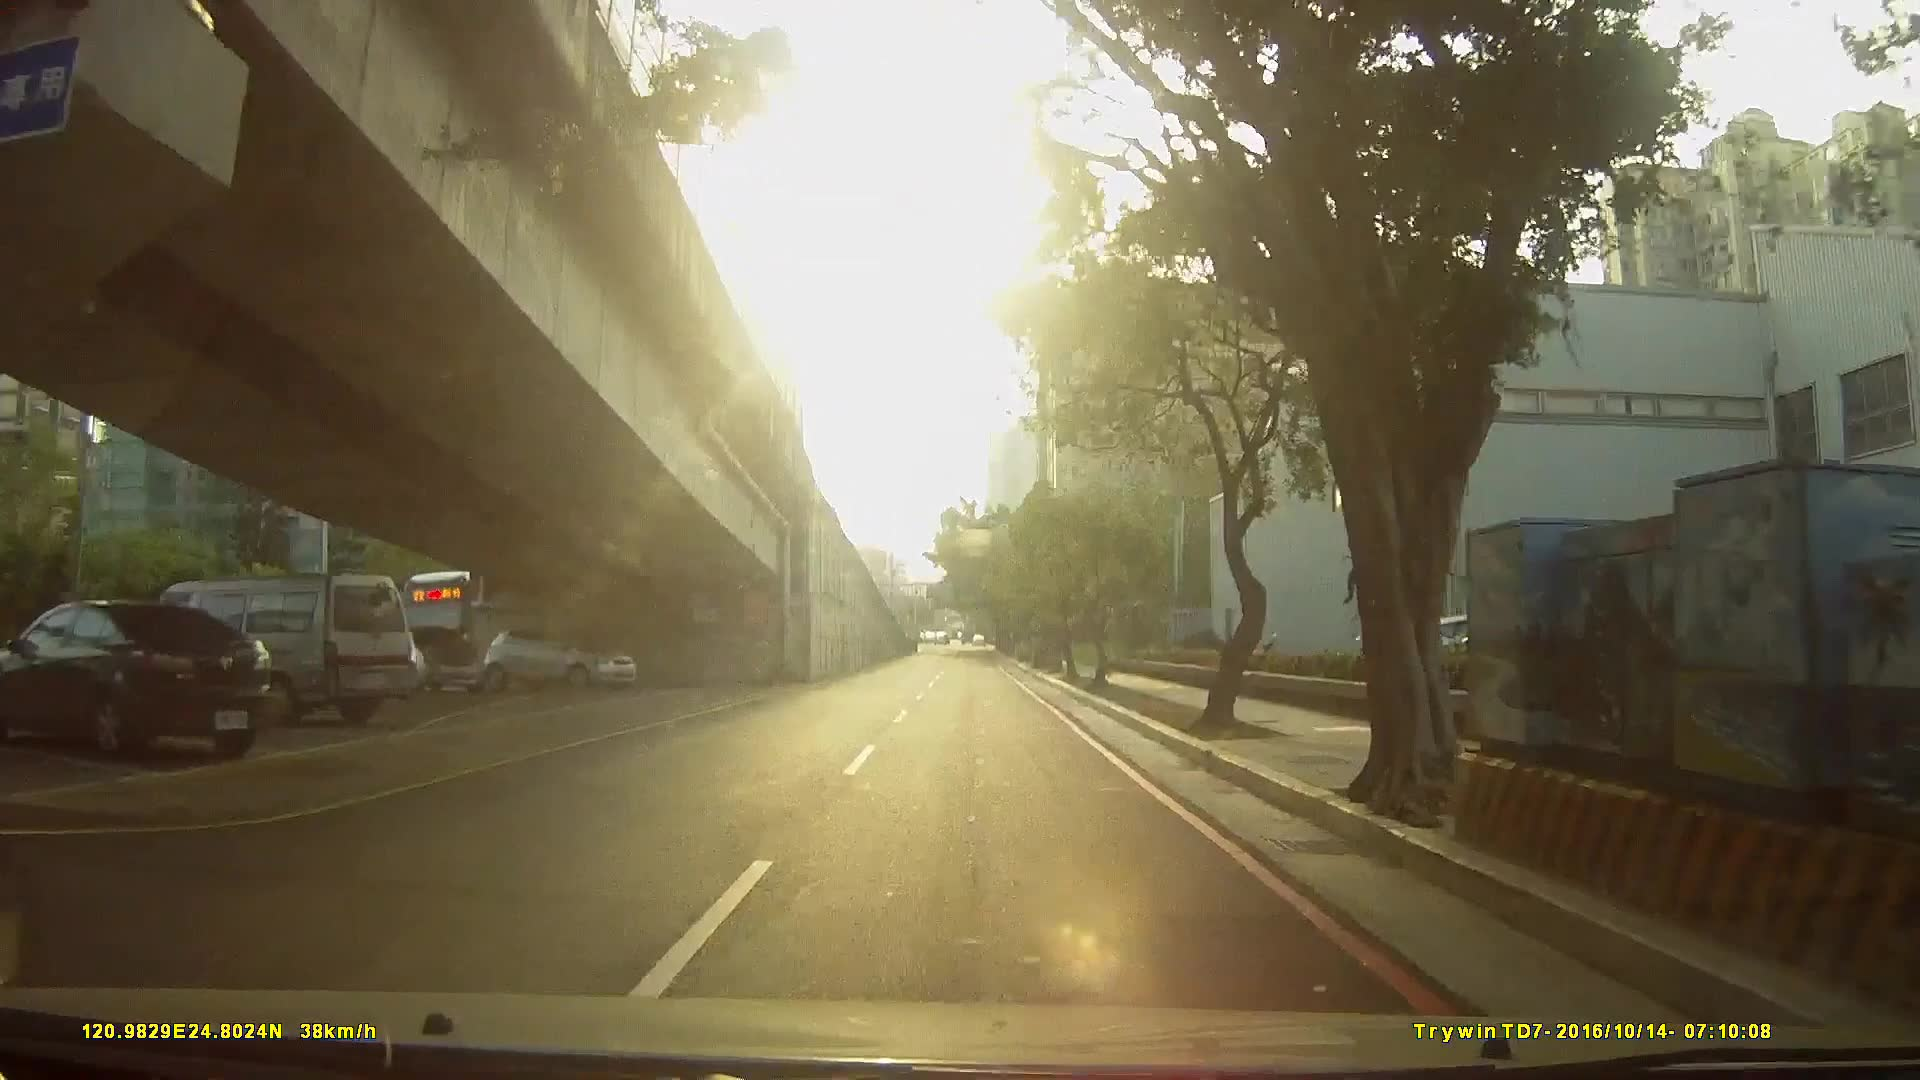vehicle: (1, 587, 305, 766), (116, 568, 404, 731), (477, 622, 636, 696), (371, 622, 483, 698)
